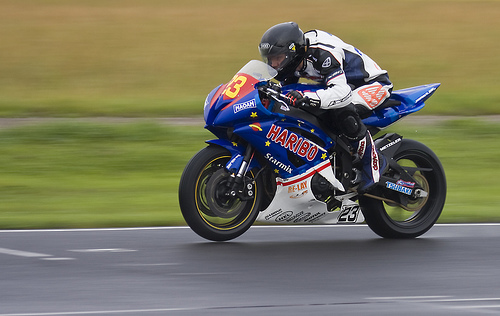helmet: (260, 19, 310, 68)
